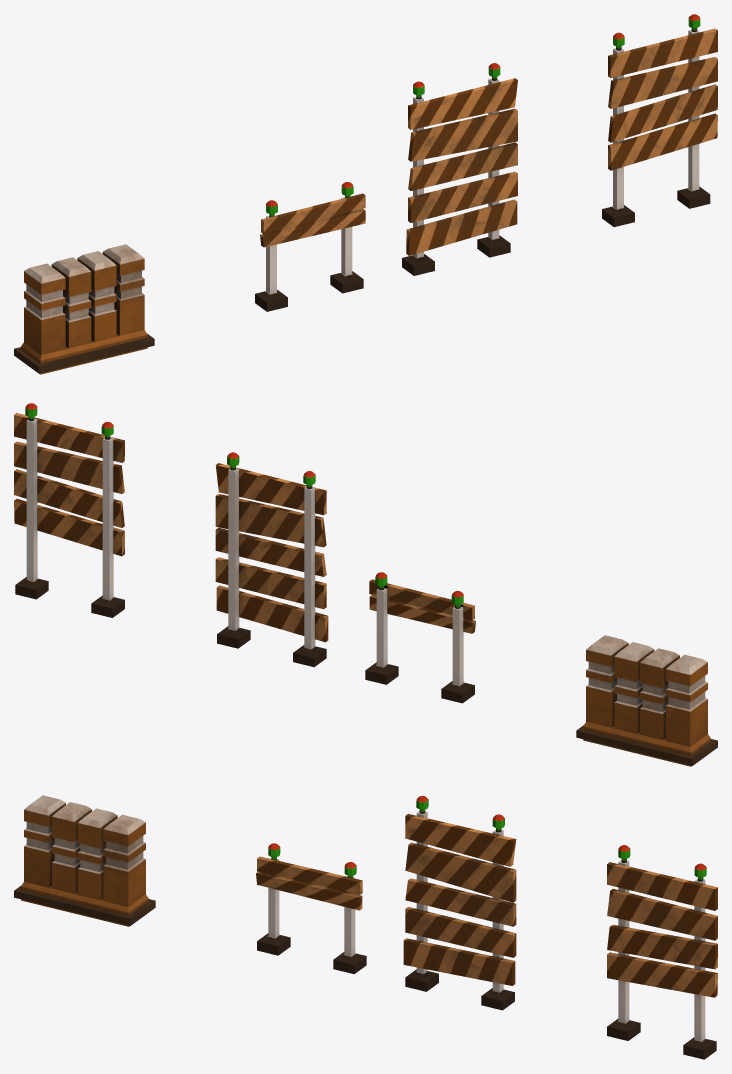
Rendered from Construction_obstacles.fbx.
3 renders of one model, top to bottom at view 1: azimuth 30°, elevation 25°; view 2: azimuth 150°, elevation 25°; view 3: azimuth 330°, elevation 25°, orthographic.
Visible parts, largest first — view 1: Prop_fullbarrier, Prop_upbarrier, Prop_BarrierLift, Prop_Downbarrier, Prop_Barrierbase; view 2: Prop_fullbarrier, Prop_upbarrier, Prop_BarrierLift, Prop_Downbarrier, Prop_Barrierbase; view 3: Prop_fullbarrier, Prop_upbarrier, Prop_BarrierLift, Prop_Downbarrier, Prop_Barrierbase.
Boxes of the visible parts, left/top/right/bottom form: Prop_fullbarrier: left=402, top=63, right=517, bottom=275; Prop_upbarrier: left=602, top=14, right=717, bottom=227; Prop_BarrierLift: left=21, top=244, right=147, bottom=374; Prop_Downbarrier: left=255, top=182, right=365, bottom=311; Prop_Barrierbase: left=14, top=333, right=154, bottom=373; Prop_fullbarrier: left=215, top=452, right=328, bottom=667; Prop_upbarrier: left=14, top=403, right=124, bottom=617; Prop_BarrierLift: left=583, top=635, right=710, bottom=766; Prop_Downbarrier: left=365, top=572, right=475, bottom=703; Prop_Barrierbase: left=576, top=725, right=717, bottom=765; Prop_fullbarrier: left=403, top=796, right=516, bottom=1010; Prop_upbarrier: left=607, top=845, right=717, bottom=1059; Prop_BarrierLift: left=21, top=795, right=148, bottom=926; Prop_Downbarrier: left=256, top=843, right=366, bottom=974; Prop_Barrierbase: left=14, top=885, right=155, bottom=925.
Size of the model in its own units: 2867 by 757 by 181.
